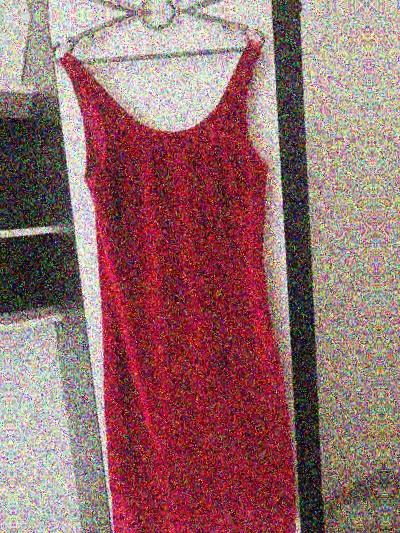Dress: (49, 20, 313, 533), (29, 0, 292, 3)
